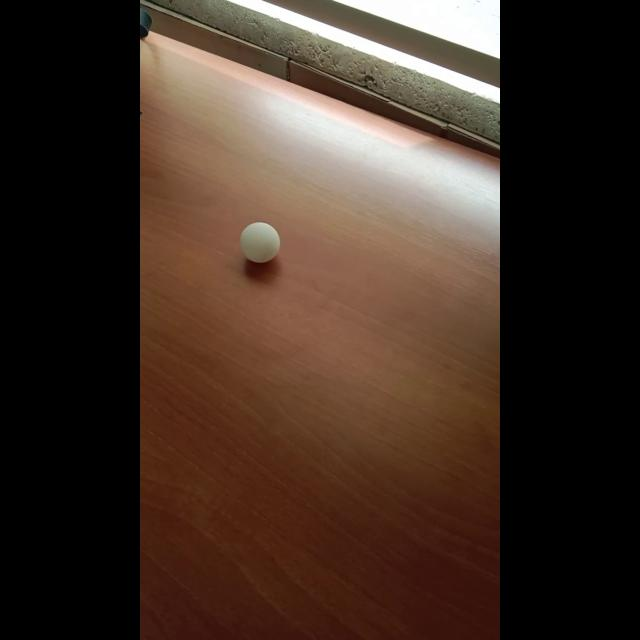white ball: (239, 221, 281, 263)
